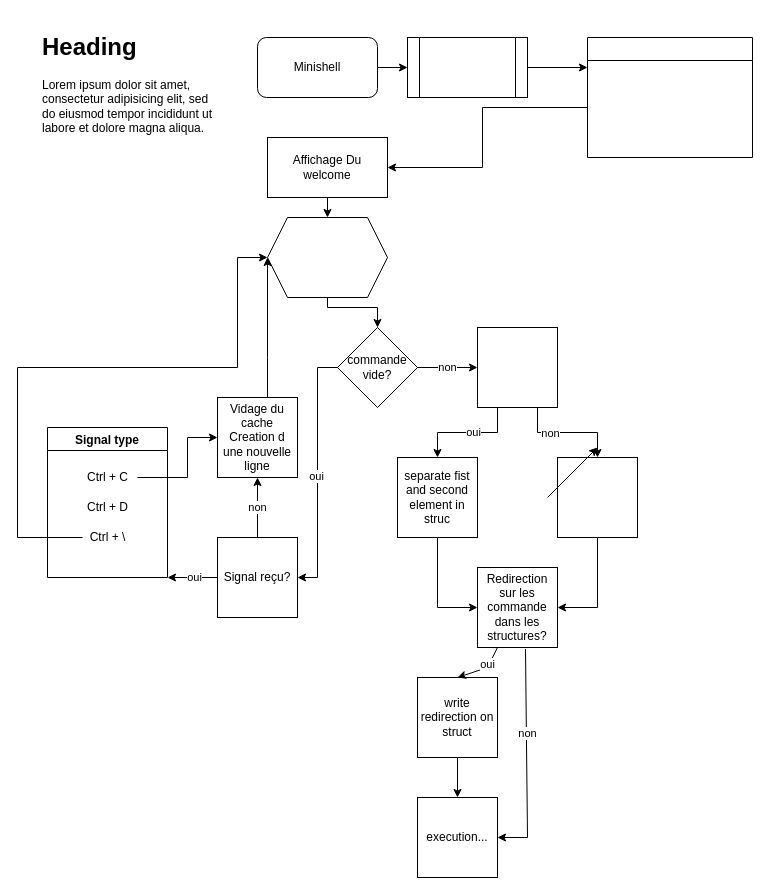
Some shapes in this 770 by 895 pixel diagram are drawn without their labels. The centre of each missing label's shape, as x and y in pixels:
Attente d'une commande: the point at 327,257
Creation de la structure: the point at 669,97
Modification de signaux: the point at 467,67
pipe?: the point at 517,367
place element in struct: the point at 597,497
